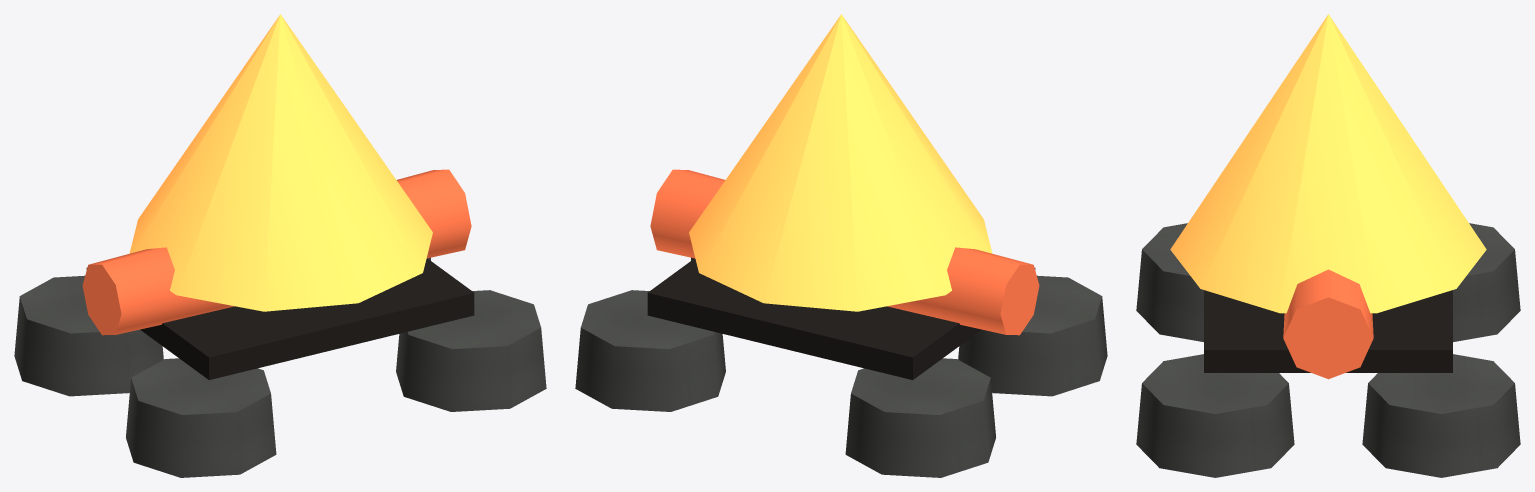
The model's file is sk-hearth-fire.glb.
3 views of the same model, side by side, from view 1: azimuth 30°, elevation 25°; view 2: azimuth 150°, elevation 25°; view 3: azimuth 270°, elevation 25° (orthographic).
Parts seen in each view (by area): view 1: hearth-flame, interior:hearth_fire-static-hearth-stone, hearth-coal-bed, interior:hearth_fire-static-hearth-ember; view 2: hearth-flame, interior:hearth_fire-static-hearth-stone, hearth-coal-bed, interior:hearth_fire-static-hearth-ember; view 3: hearth-flame, interior:hearth_fire-static-hearth-stone, hearth-coal-bed, interior:hearth_fire-static-hearth-ember.
Boxes of the visible parts, box(x1,y1,x2,y2) form: hearth-flame: box(129, 14, 432, 311); interior:hearth_fire-static-hearth-stone: box(14, 257, 546, 477); hearth-coal-bed: box(86, 258, 474, 379); interior:hearth_fire-static-hearth-ember: box(82, 169, 471, 335); hearth-flame: box(689, 14, 992, 311); interior:hearth_fire-static-hearth-stone: box(575, 257, 1107, 477); hearth-coal-bed: box(647, 258, 1035, 379); interior:hearth_fire-static-hearth-ember: box(650, 169, 1039, 335); hearth-flame: box(1170, 14, 1486, 313); interior:hearth_fire-static-hearth-stone: box(1136, 223, 1520, 477); hearth-coal-bed: box(1204, 290, 1452, 372); interior:hearth_fire-static-hearth-ember: box(1283, 269, 1373, 379).
Bounding box in the file's own units: 0.84 × 0.71 × 0.68.
Materials: 4 (1 with a texture image).
